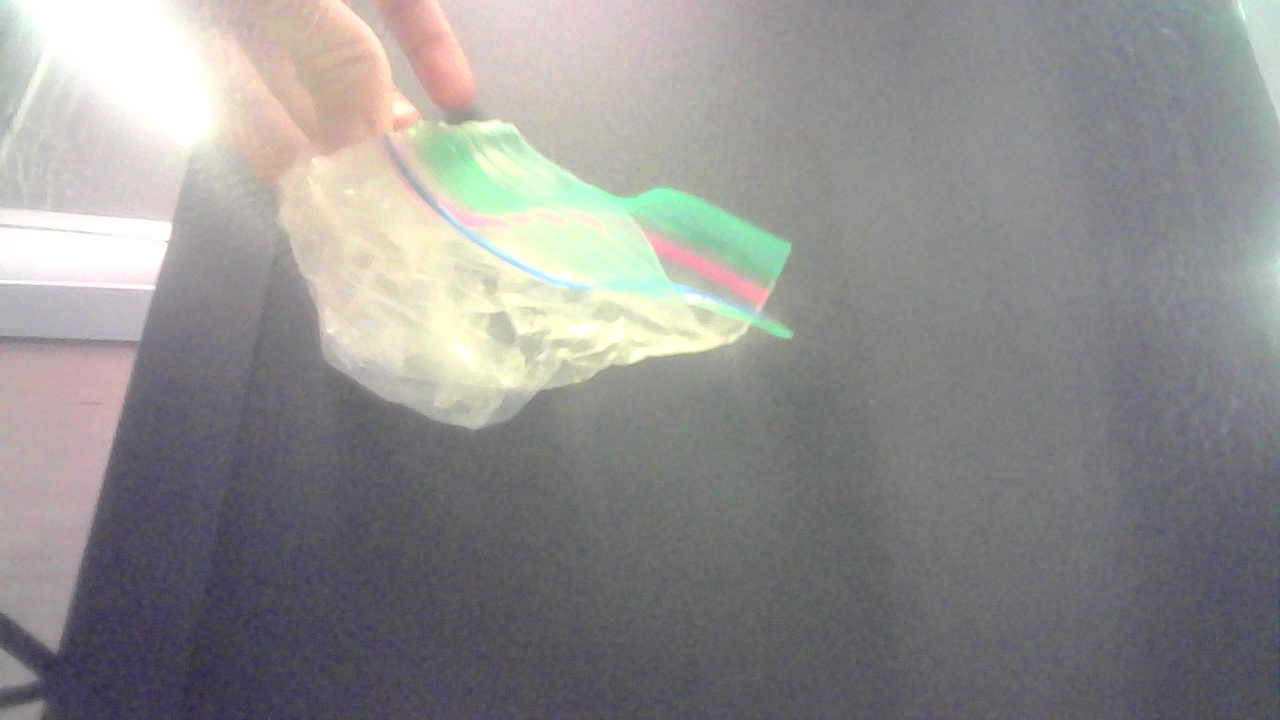Plastic_Recycling: (273, 106, 822, 461)
